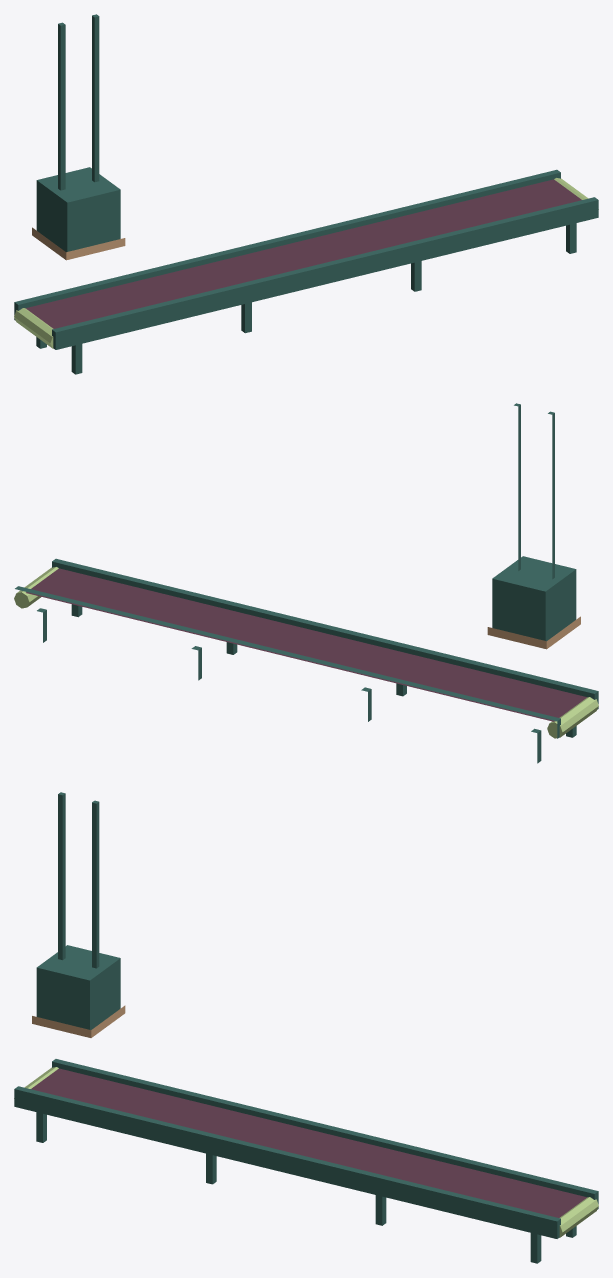
Rendered from belt.glb.
3 views of the same model, one above another, from view 1: azimuth 30°, elevation 25°; view 2: azimuth 150°, elevation 25°; view 3: azimuth 330°, elevation 25° (orthographic).
Visible parts, largest first — view 1: Belt, RailF, Hopper, RailB, Rod0, Rod1, HTrim, DrumL; view 2: Belt, Hopper, RailF, RailB, DrumL, HTrim, DrumR, Rod0, Rod1; view 3: Belt, RailF, Hopper, RailB, Rod0, Rod1, HTrim, DrumR.
Boxes of the visible parts, <box> form: Belt: <box>26,179,581,328</box>; RailF: <box>52,197,598,349</box>; Hopper: <box>36,167,120,252</box>; RailB: <box>14,169,560,320</box>; Rod0: <box>58,22,65,190</box>; Rod1: <box>92,14,99,182</box>; HTrim: <box>32,227,125,260</box>; DrumL: <box>14,308,53,348</box>; Belt: <box>26,568,586,721</box>; Hopper: <box>492,556,576,641</box>; RailF: <box>52,558,598,709</box>; RailB: <box>15,586,560,738</box>; DrumL: <box>547,697,598,738</box>; HTrim: <box>487,616,580,649</box>; DrumR: <box>14,567,58,608</box>; Rod0: <box>548,411,554,579</box>; Rod1: <box>514,403,520,570</box>; Belt: <box>31,1068,586,1217</box>; RailF: <box>14,1086,560,1238</box>; Hopper: <box>36,945,120,1029</box>; RailB: <box>52,1059,598,1209</box>; Rod0: <box>58,792,65,960</box>; Rod1: <box>92,800,99,968</box>; HTrim: <box>32,1005,125,1037</box>; DrumR: <box>559,1197,598,1237</box>.
Size of the model in its own units: 11.32 by 6.6 by 1.48.
